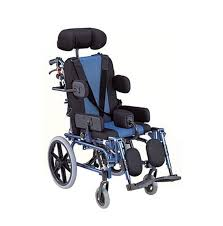wheelchair: (43, 24, 178, 209)
